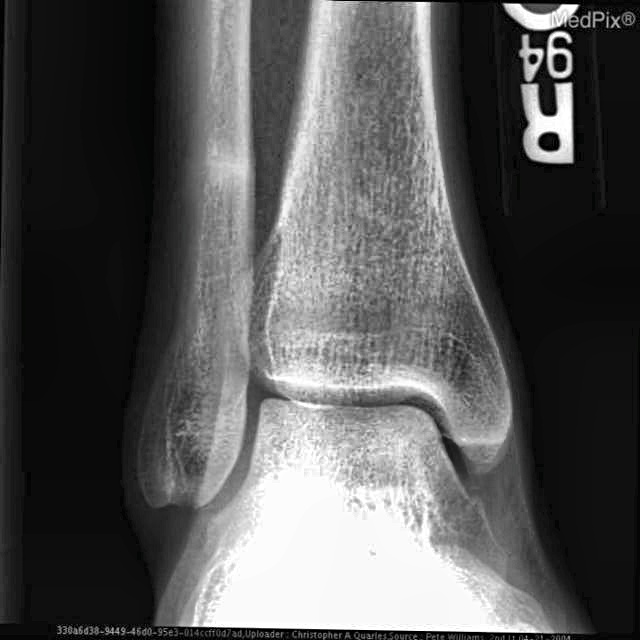Healthy: (113, 53, 547, 582)
